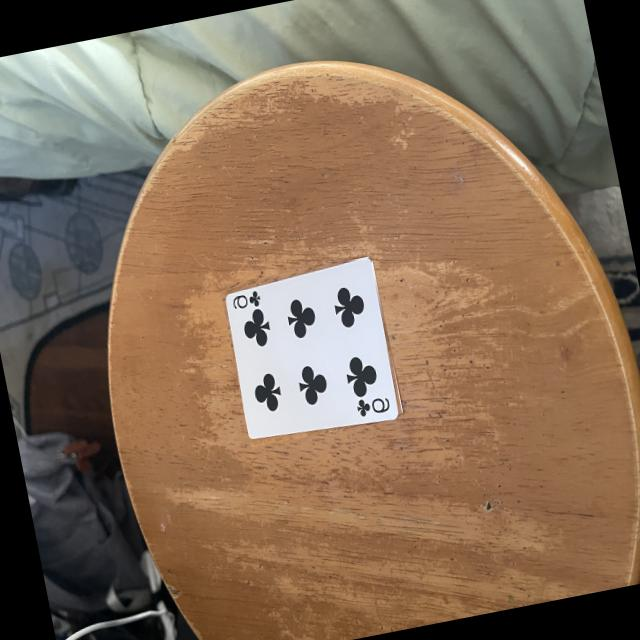6 of clubs: (227, 257, 399, 436)
